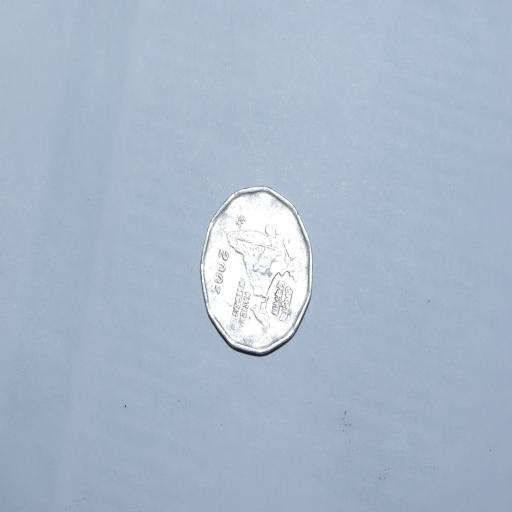rupee2: (198, 184, 316, 358)
